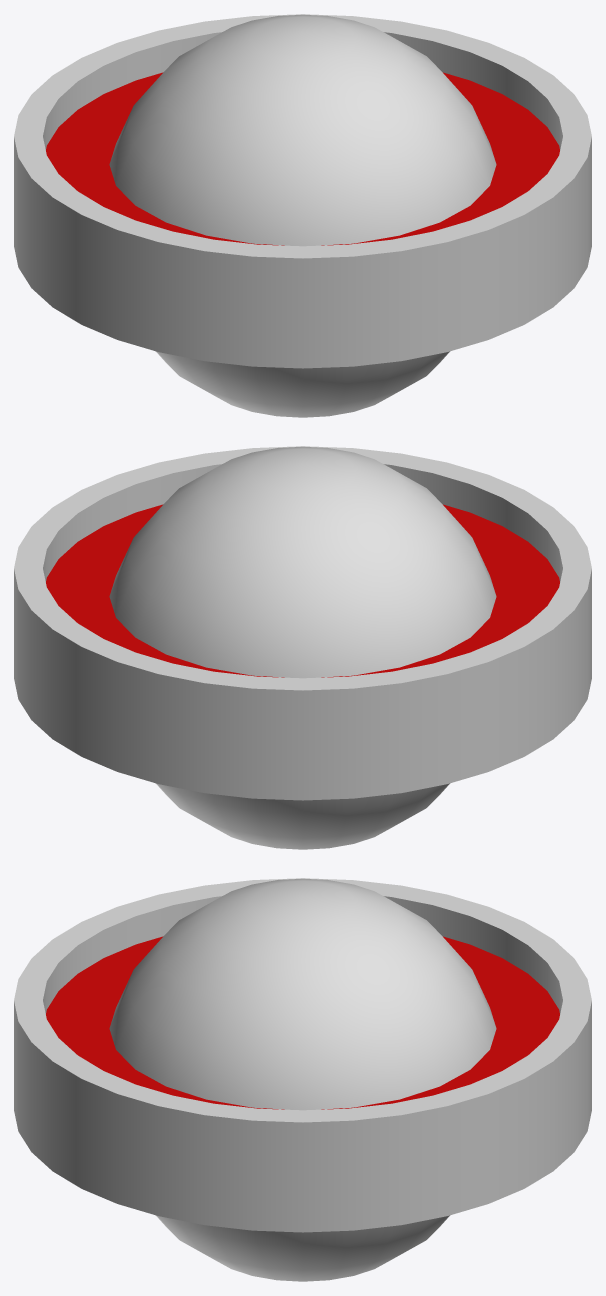
File: Button non actif.fbx
3 views of the same model, one above another, from view 1: azimuth 30°, elevation 25°; view 2: azimuth 150°, elevation 25°; view 3: azimuth 270°, elevation 25° (orthographic).
Parts seen in each view (by area): view 1: Sphere, Tube_1, Tube, Tube_2; view 2: Sphere, Tube_1, Tube, Tube_2; view 3: Sphere, Tube_1, Tube, Tube_2.
Part boxes in pixels (x1,y1,x2,y2): Sphere: (109, 14, 496, 417); Tube_1: (14, 14, 591, 295); Tube: (14, 169, 591, 368); Tube_2: (46, 72, 559, 245); Sphere: (109, 446, 496, 849); Tube_1: (14, 446, 591, 727); Tube: (14, 601, 591, 800); Tube_2: (46, 504, 559, 677); Sphere: (109, 878, 496, 1281); Tube_1: (14, 878, 591, 1159); Tube: (14, 1038, 591, 1232); Tube_2: (46, 936, 559, 1109).
Bounding box in the file's own units: 100 × 70 × 100.
